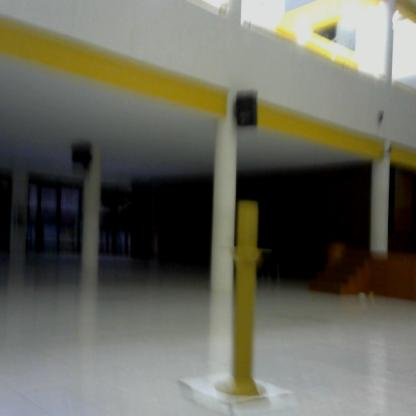pole: (217, 189, 276, 411)
